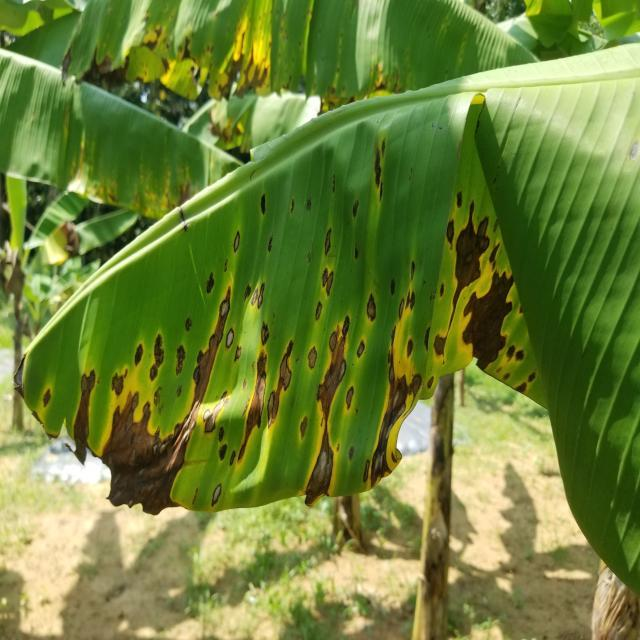Early_rust: (0, 106, 574, 562), (26, 0, 510, 111)
